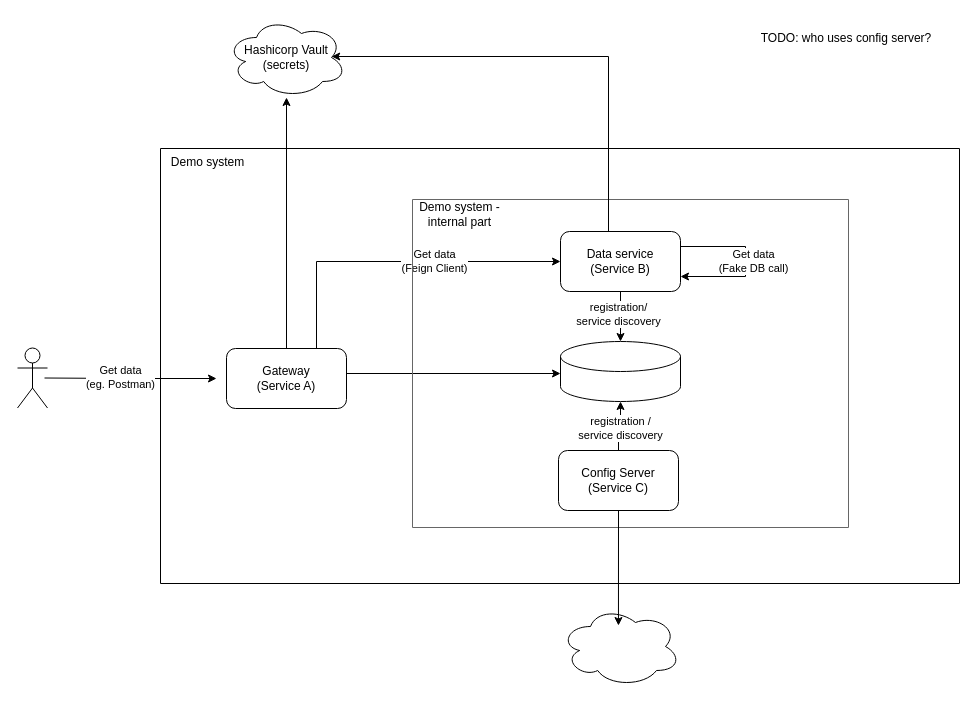
The diagram is 977 pixels wide and 704 high, and some of its shapes have lost their labels. Here are the shapes that lost their labels. From the top down, the centre of each, then its label:
At point (32, 377): "Client".
At point (620, 371): "Eureka Server".
At point (620, 646): "Git".
